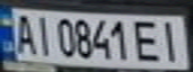0: (54, 15, 75, 58)
1: (109, 17, 133, 61)
4: (90, 16, 112, 60)
8: (72, 16, 93, 60)
A: (9, 11, 36, 56)
E: (130, 17, 166, 63)
I: (154, 17, 187, 63), (30, 11, 54, 56)
